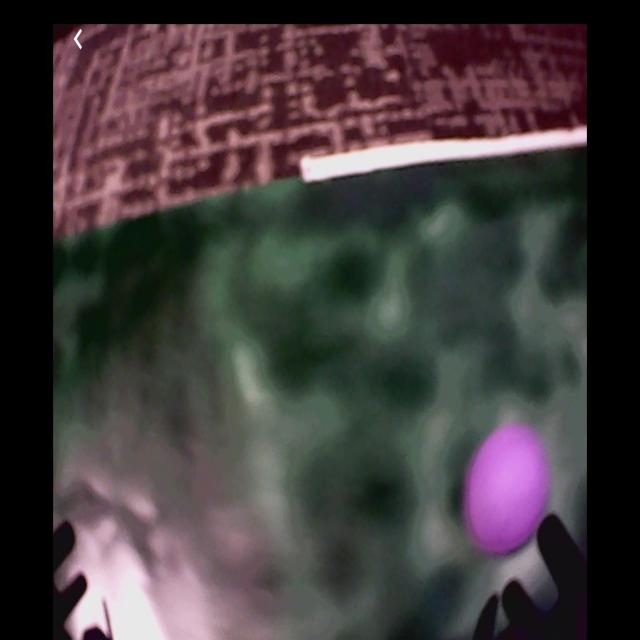ball: (468, 425, 549, 556)
